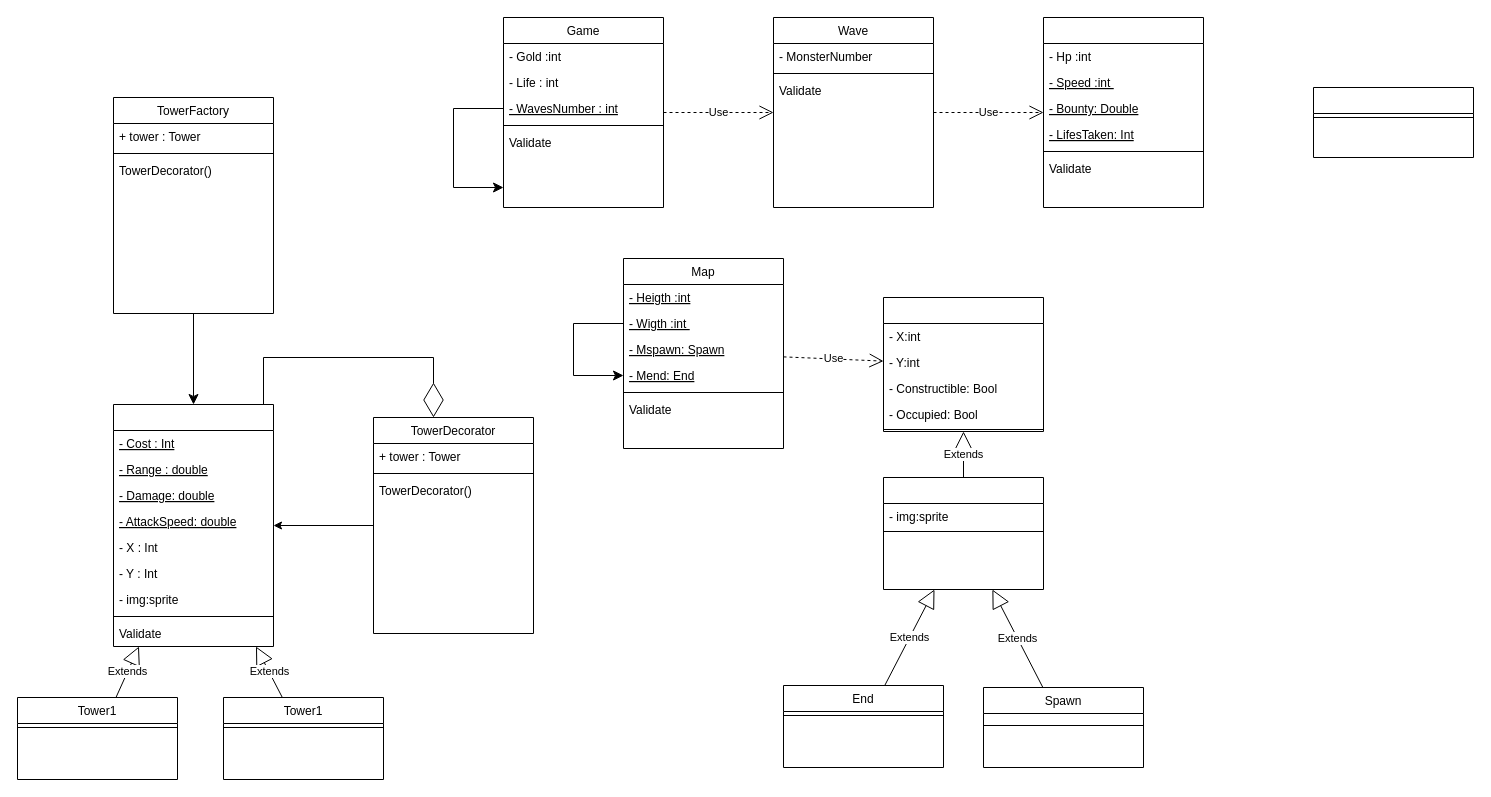
Image size: 1491x797. Some labels were removed from this diagram. The box of each missing label's shape, as (x1, y1, x2, y2) in pixels:
Cell: (882, 296, 1044, 432)
Monster: (1042, 16, 1204, 208)
MonsterFactory: (1312, 86, 1474, 158)
Specialcell: (882, 476, 1044, 590)
Tower: (112, 404, 274, 646)
